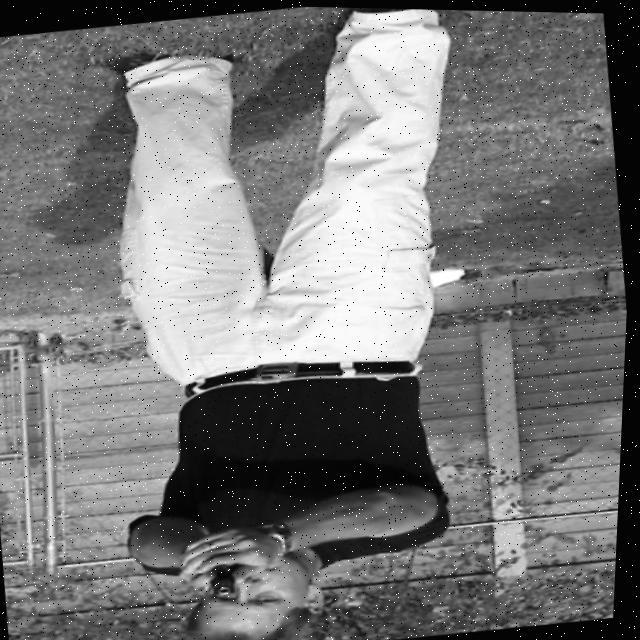pistol: (211, 560, 247, 600)
